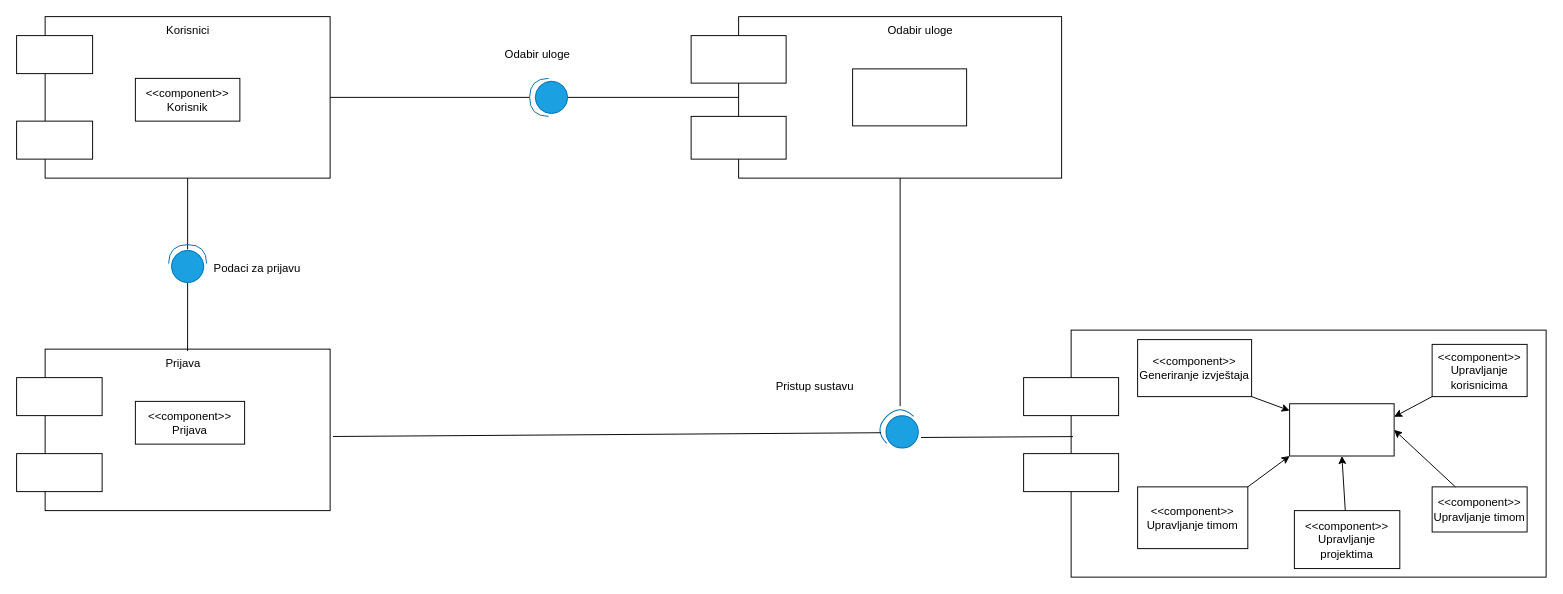
This 1563x594 diagram has some shape labels left out. The shapes that lost their labels are listed below. From the top down, each one's box as (x1, y1, x2, y2) in pixels, then its label:
(852, 68, 967, 126): <<component>> Uloga
(1289, 403, 1394, 456): <<component>> Praćenje rada
